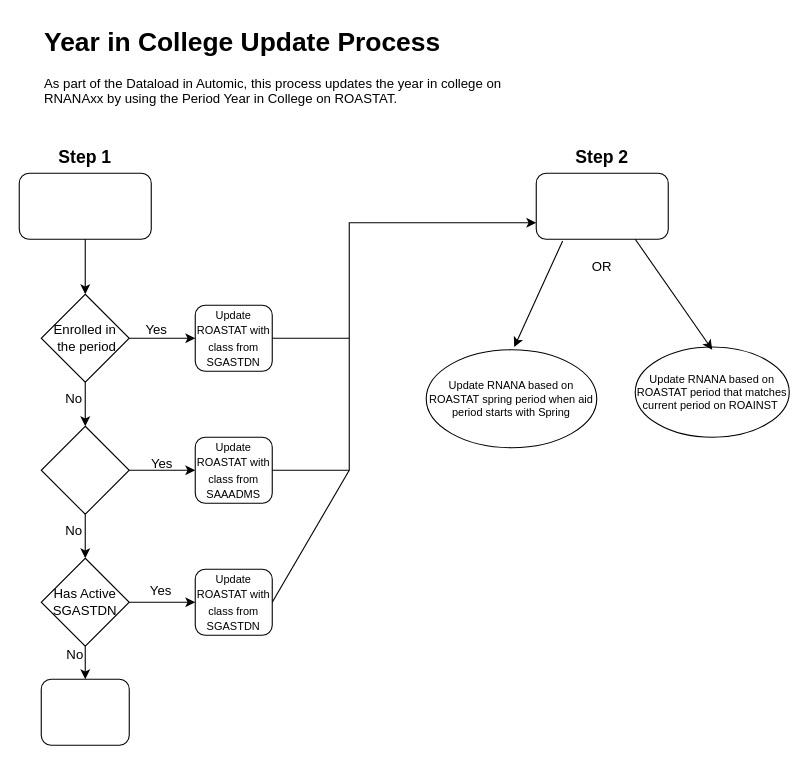
The diagram is 809 pixels wide and 765 high, and some of its shapes have lost their labels. Here are the shapes that lost their labels. From the top down, the box of each, then its label:
(18, 172, 151, 239): Run all FAFSA's through the Algorithmic YIC rule (RORALGO)
(535, 172, 668, 239): Pick up grade level from ROASTAT
(40, 425, 129, 514): Accepted for that term
(40, 678, 129, 745): Will not calculate YIC
